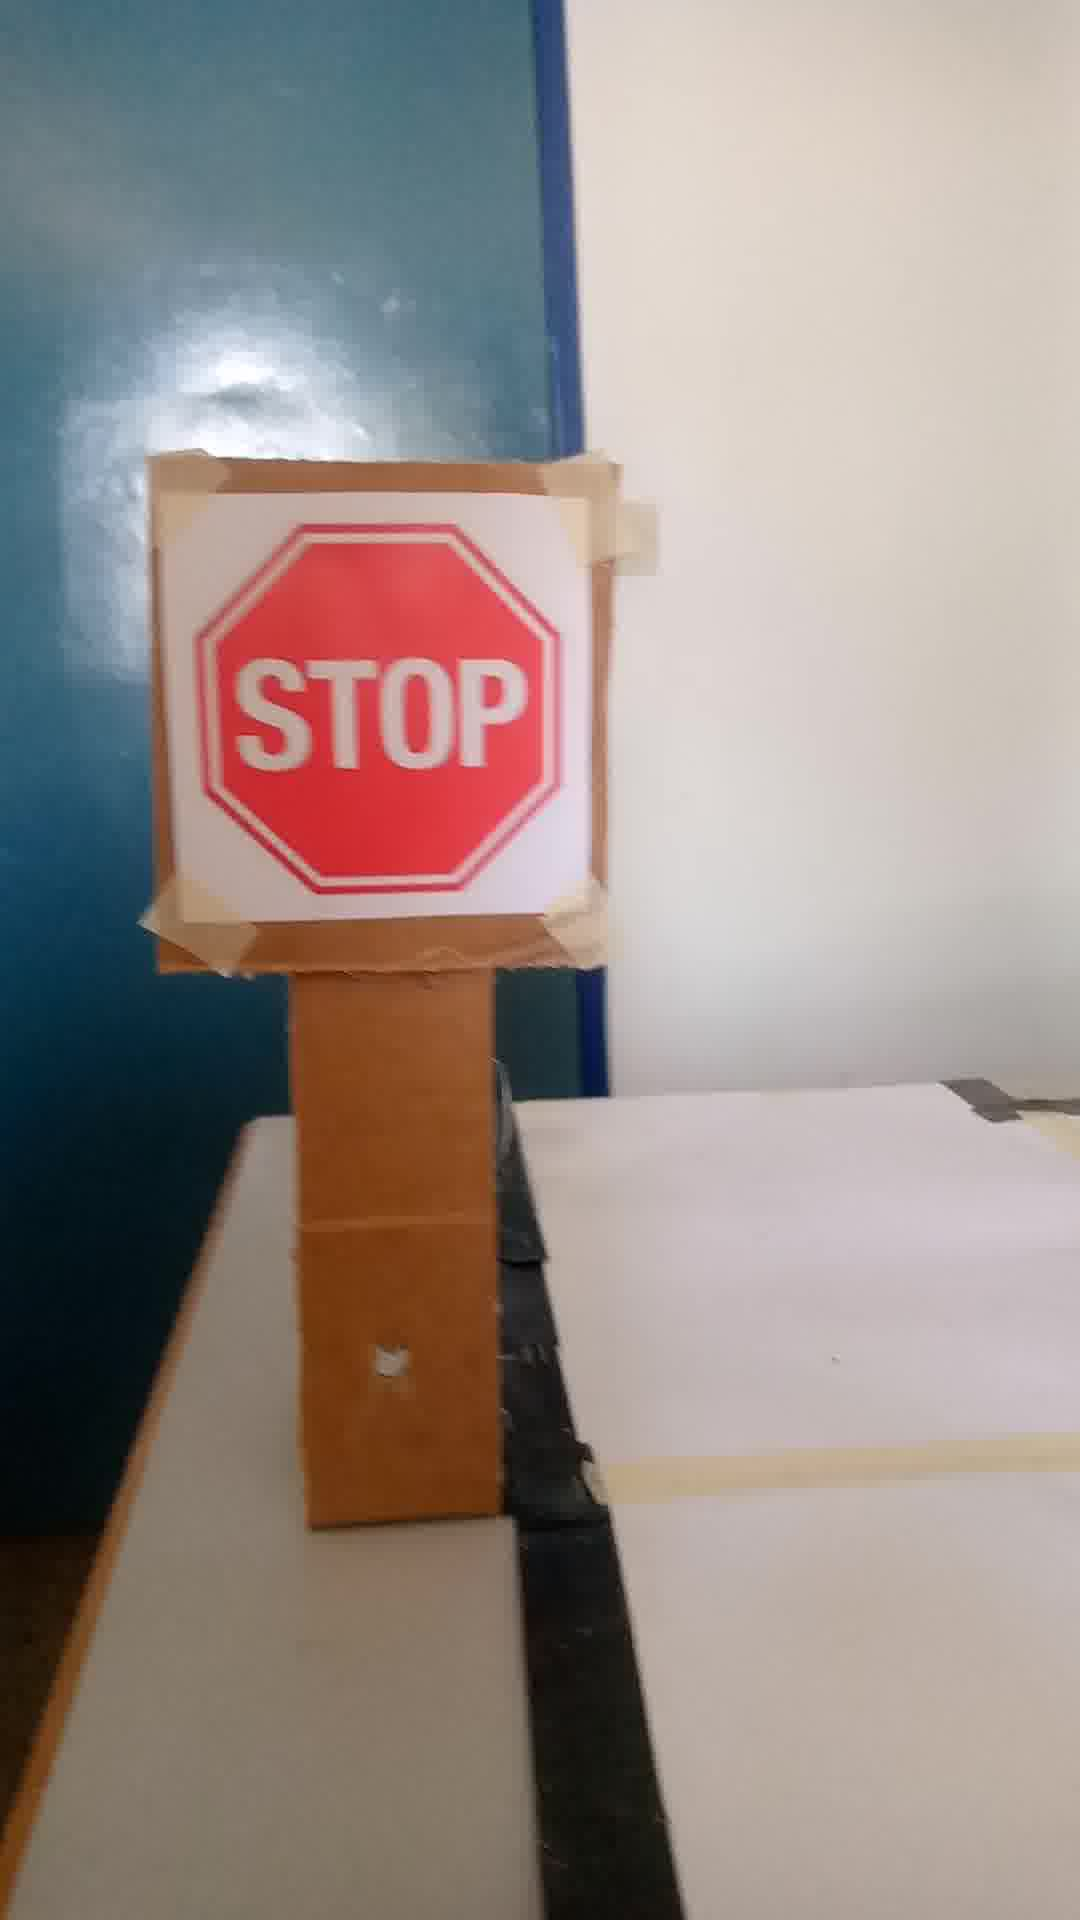panel101: (144, 487, 595, 945)
